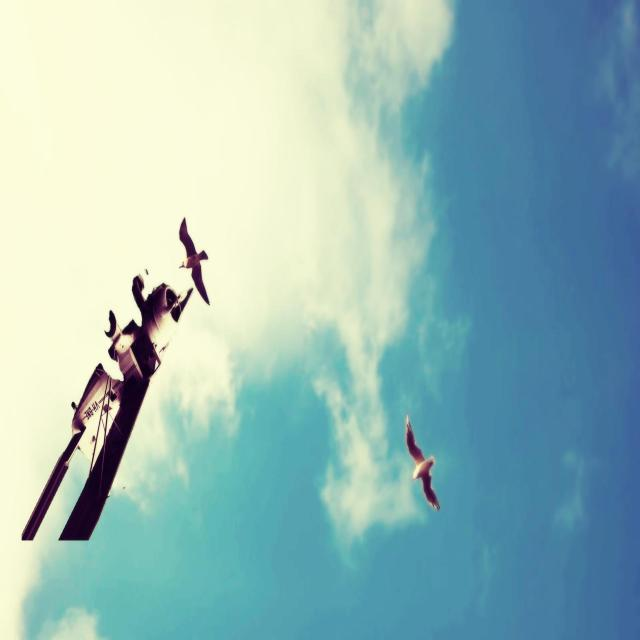airplane: (21, 266, 194, 542)
